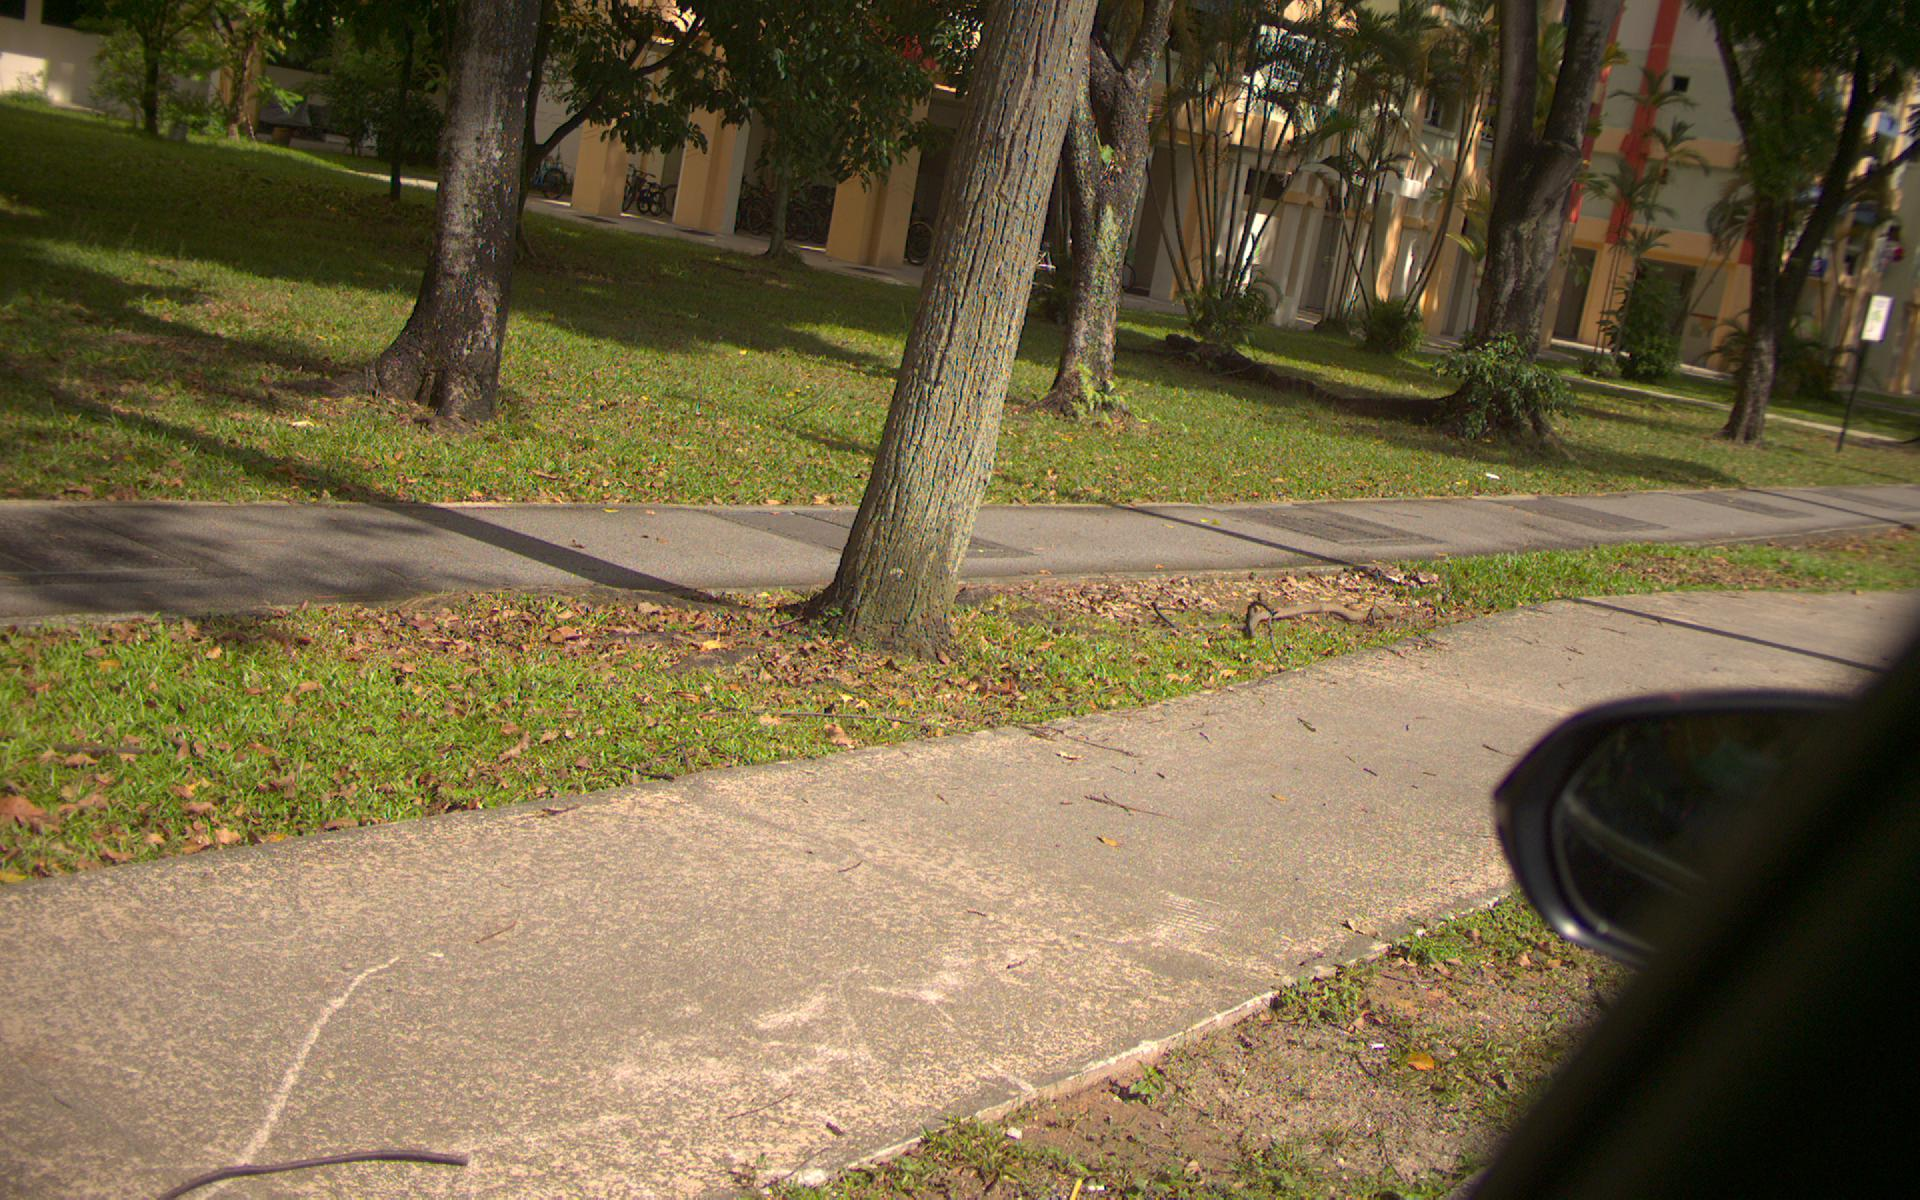pathway_low: (8, 882, 904, 1153), (4, 510, 1428, 565)
road_turf_low: (6, 299, 1914, 477), (1, 624, 615, 816)
